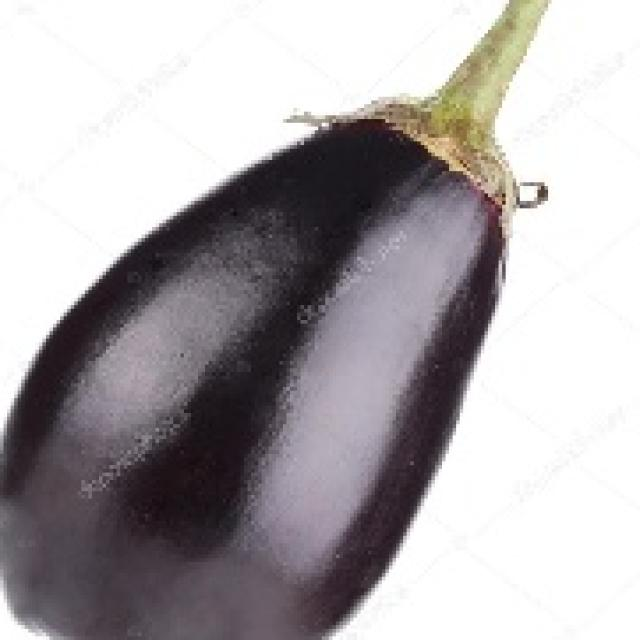eggplant: (0, 85, 530, 640)
